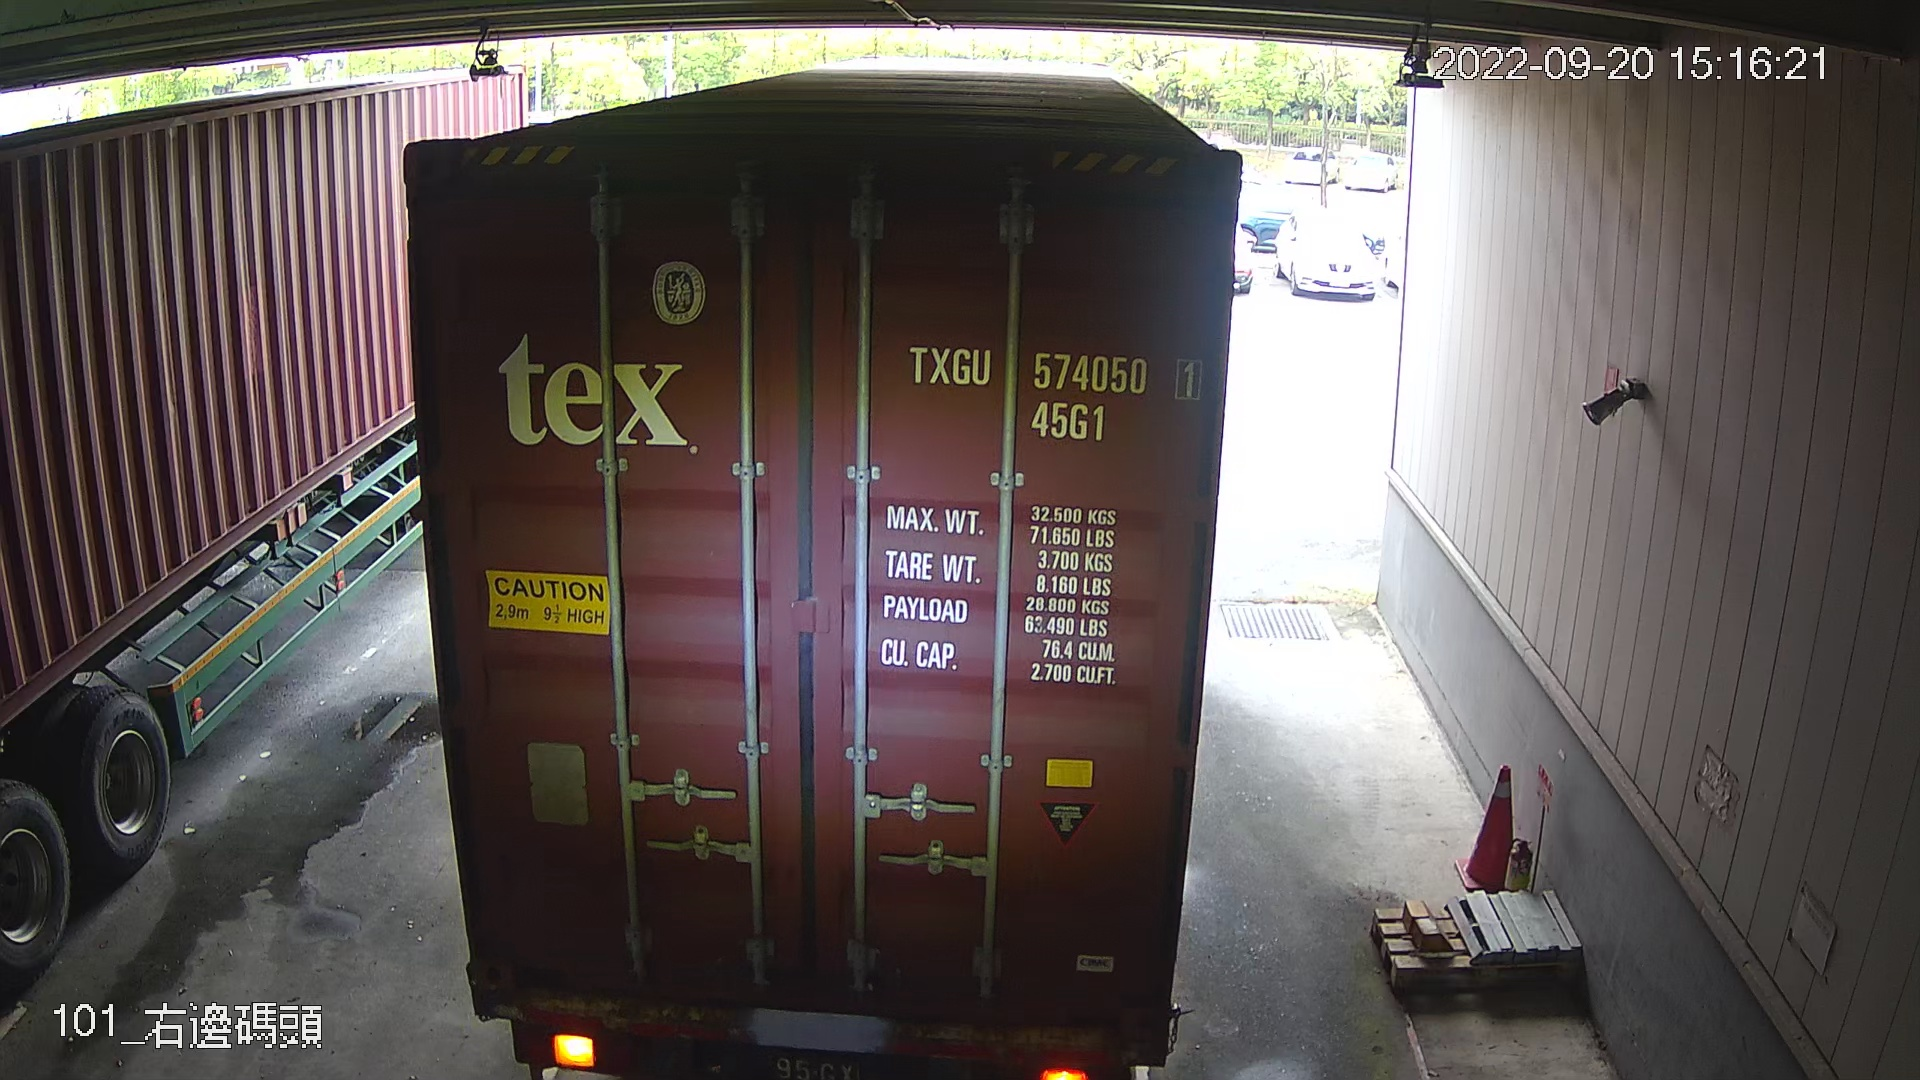container: (898, 330, 1212, 452)
